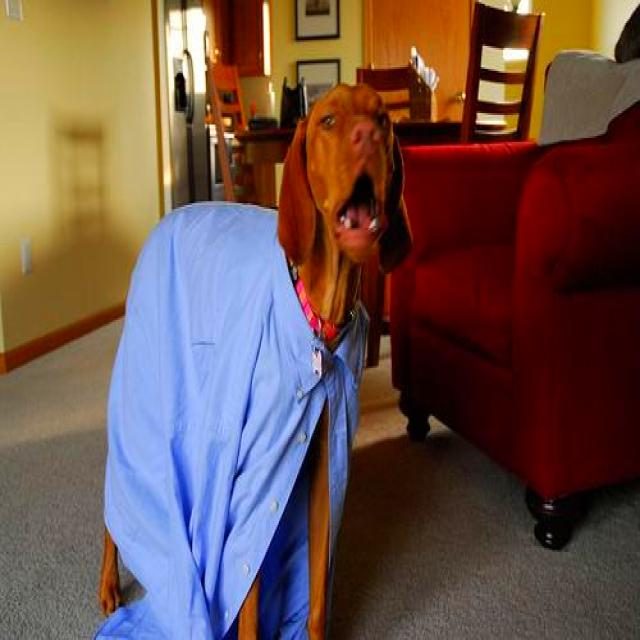vizsla: (98, 79, 414, 638)
